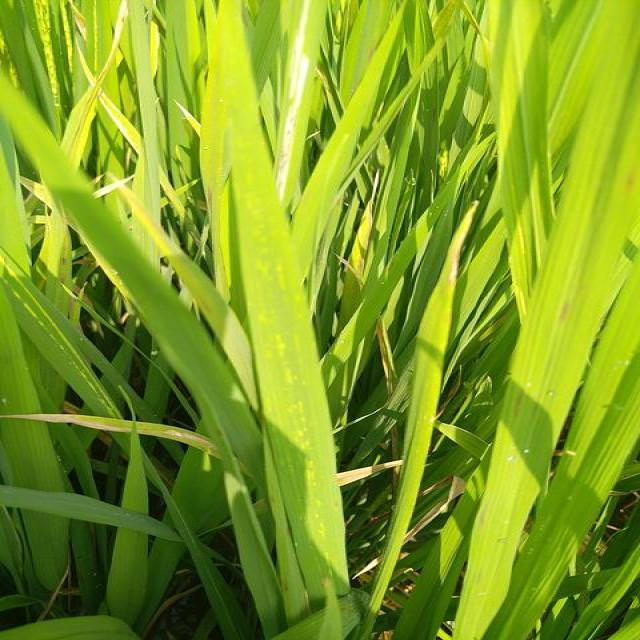Leaf Blight: (61, 0, 128, 168), (0, 414, 221, 459), (275, 0, 320, 208), (419, 201, 479, 352), (401, 476, 465, 546), (97, 89, 143, 154), (336, 460, 403, 487), (73, 34, 96, 87)
